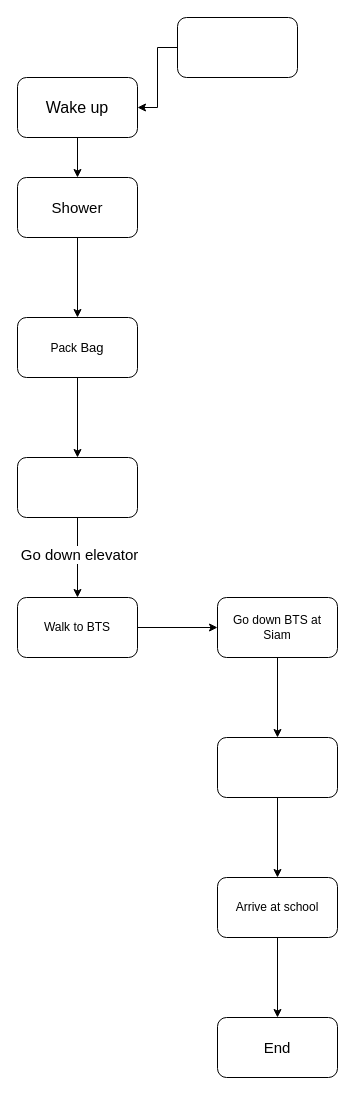
Image size: 355x1095. Some labels were removed from this diagram. The shapes that lost their labels are listed below. From the top down, each one's centre as x and y in pixels, then its label:
[237,47]: Start
[77,487]: Go out of room
[277,767]: Walk to school
